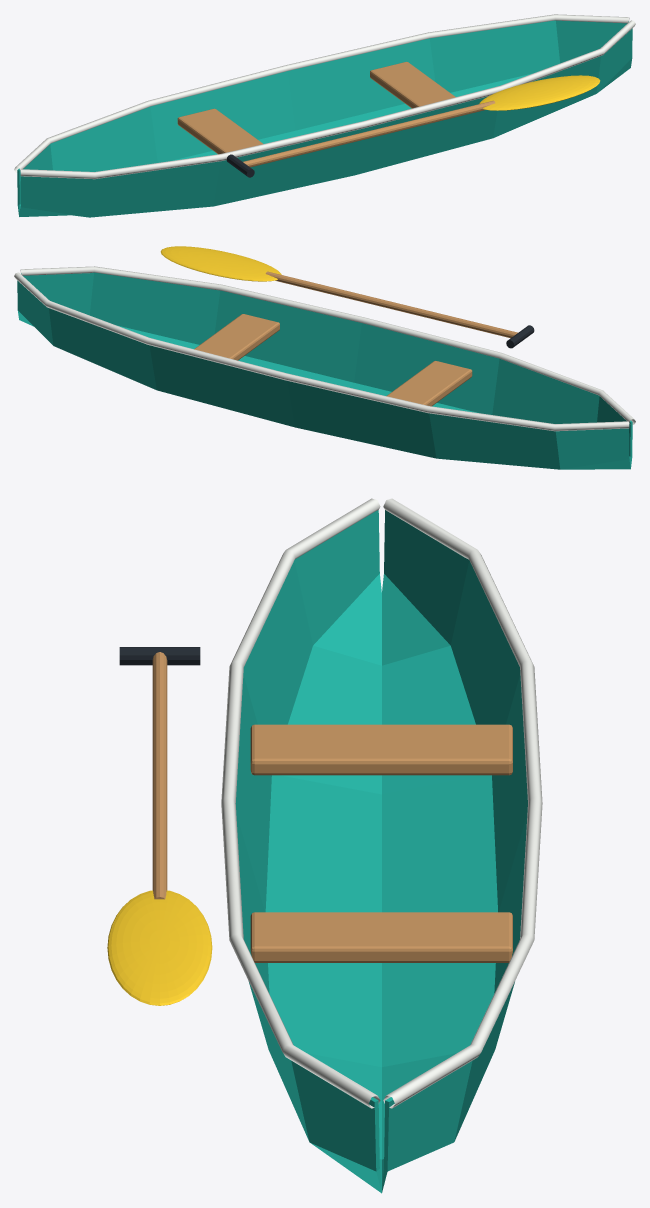
Rendered from canoe_slamon.glb.
3 views of the same model, one above another, from view 1: azimuth 30°, elevation 25°; view 2: azimuth 150°, elevation 25°; view 3: azimuth 270°, elevation 25° (orthographic). The views are drawn at different scales.
Parts seen in each view (by area): view 1: canoe_slamon; view 2: canoe_slamon; view 3: canoe_slamon.
Part boxes in pixels (<box>): canoe_slamon: <box>14,14,635,217</box>; canoe_slamon: <box>14,246,635,469</box>; canoe_slamon: <box>107,498,542,1193</box>.
Bounding box in the file's own units: 3.52 × 0.423 × 1.08.
